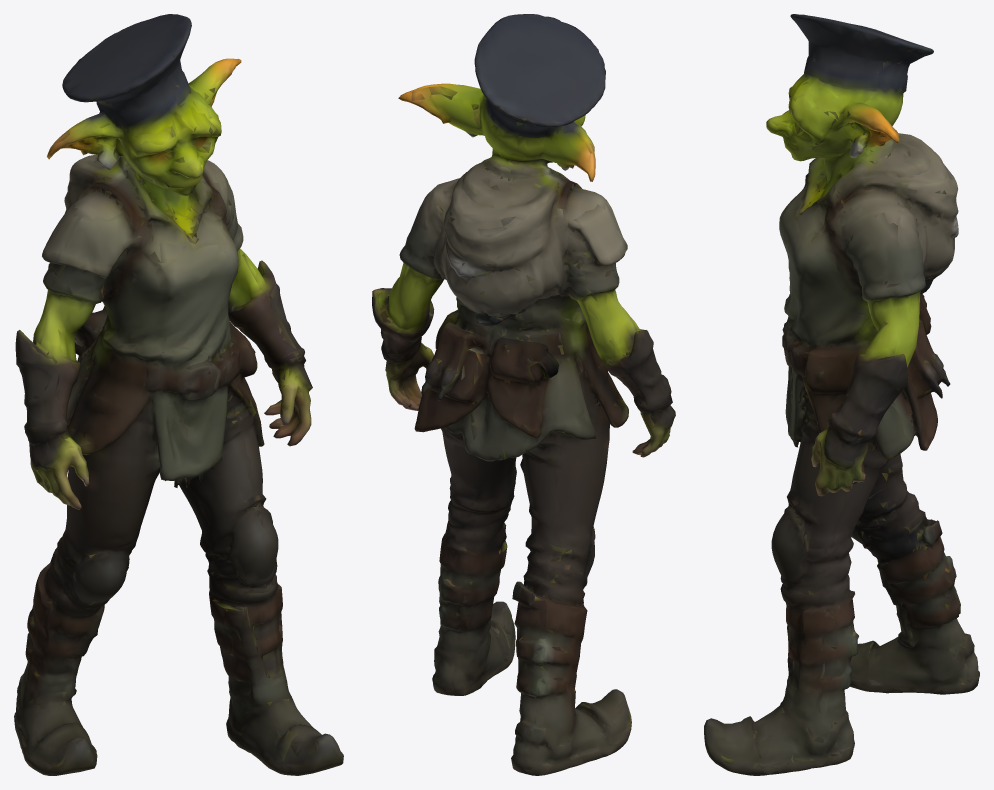
Rendered from Warbal Bumblebrasher (3D)_final.glb.
3 views of the same model, side by side, from view 1: azimuth 30°, elevation 25°; view 2: azimuth 150°, elevation 25°; view 3: azimuth 270°, elevation 25° (orthographic). The views are drawn at different scales.
Visible parts, largest first — view 1: Mesh1.0; view 2: Mesh1.0; view 3: Mesh1.0.
Part boxes in pixels (box(x1,y1,x2,y2)): Mesh1.0: box(14, 14, 343, 775); Mesh1.0: box(372, 14, 675, 775); Mesh1.0: box(704, 14, 979, 775).
Size of the model in its own units: 0.4977 by 1.2 by 0.424.
1 material, 1 textured.
